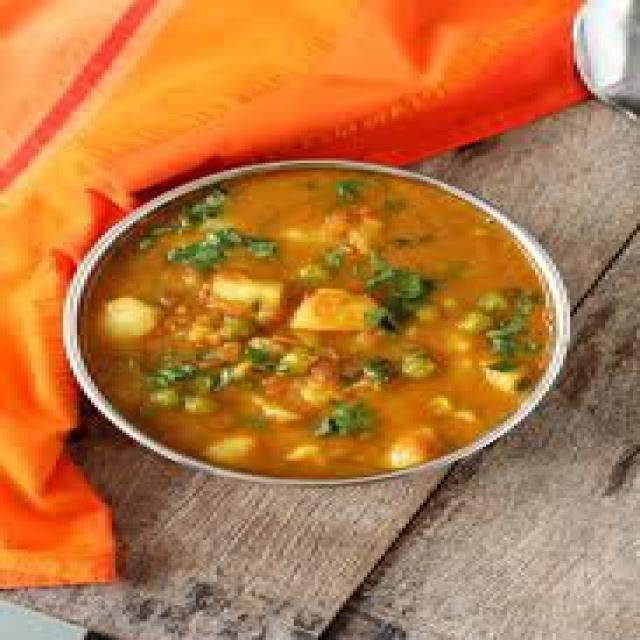aloo_matar: (109, 169, 572, 476)
